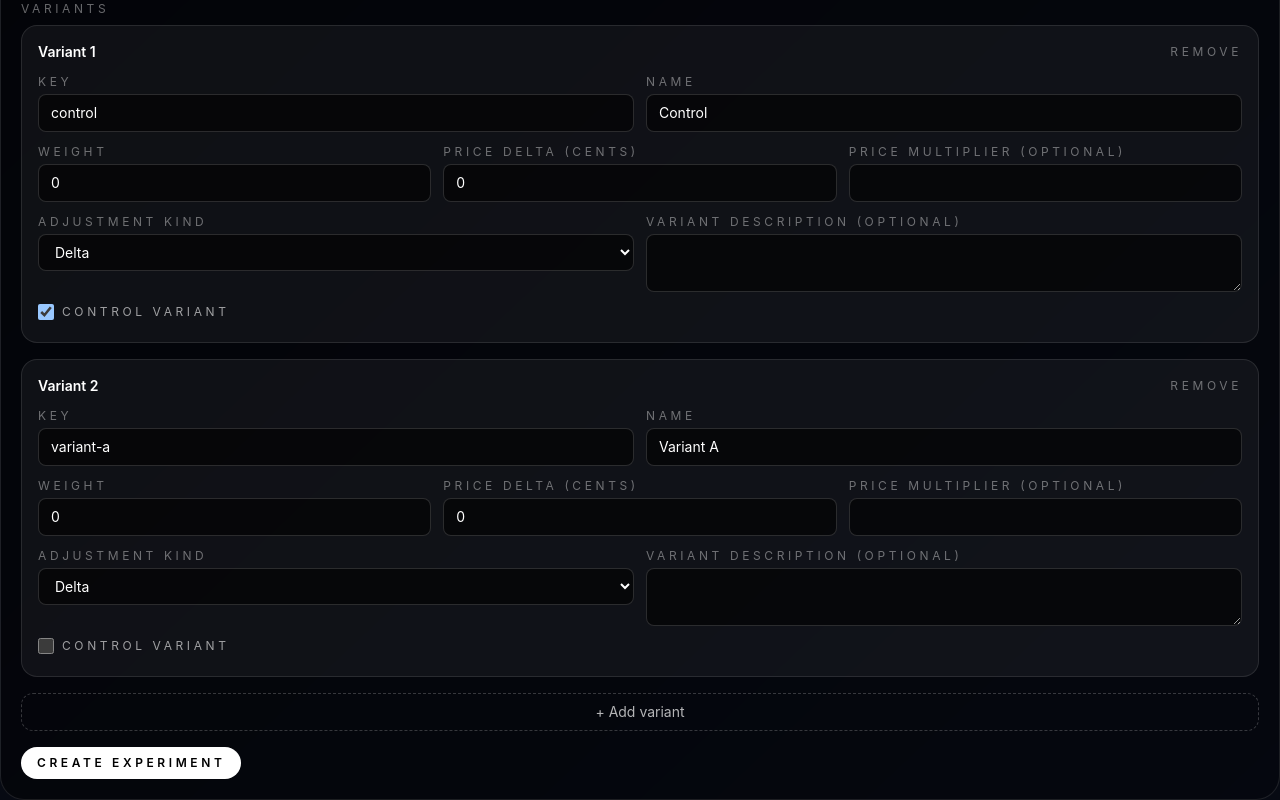
Test: PricingExperiment forms › allows adding additional variants when creating a new experiment
(page scrolled)
Expected: the text "Variant 1" is shown 2 times, [38, 42, 96, 62]; [38, 376, 99, 396]
Click the button "+ Add variant" at (640, 712), box [21, 693, 1259, 731]
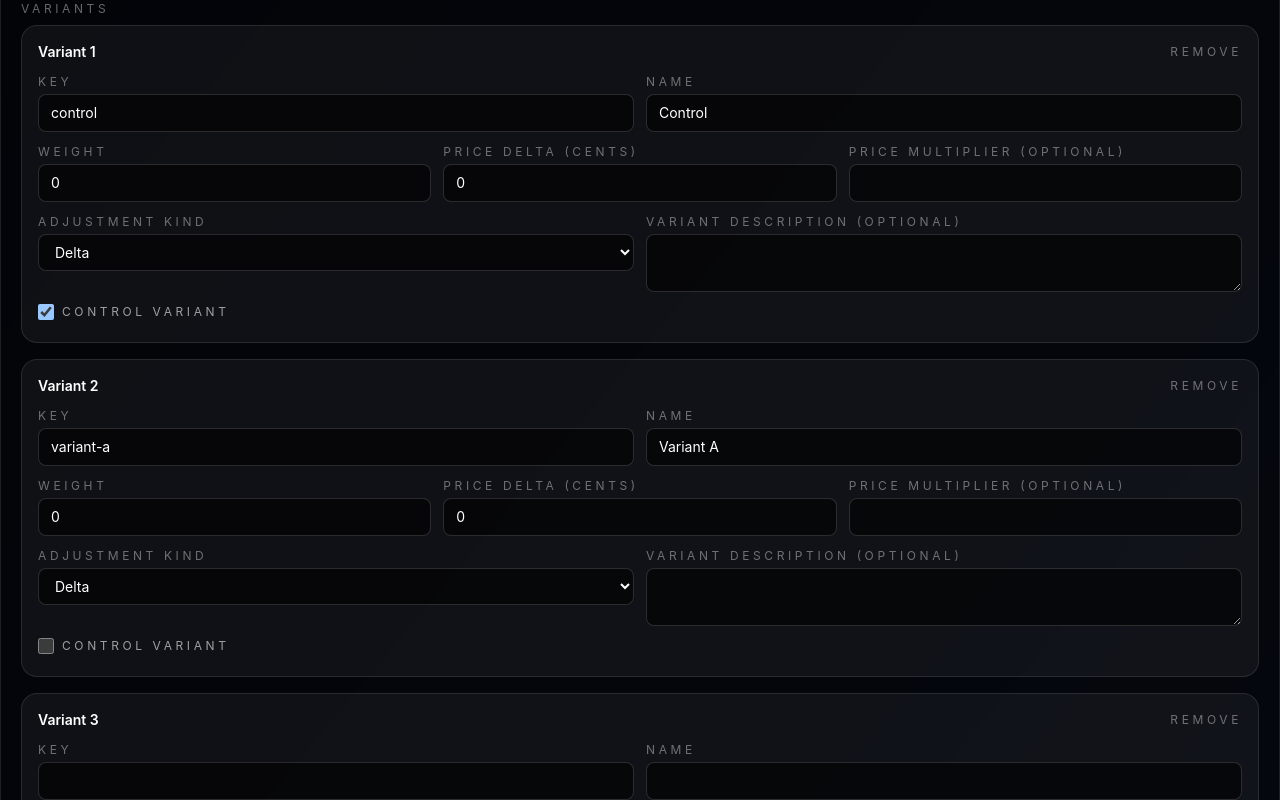
Expected: the text "Variant 1" is shown 3 times, [38, 42, 96, 62]; [38, 376, 99, 396]; [38, 710, 99, 730]
